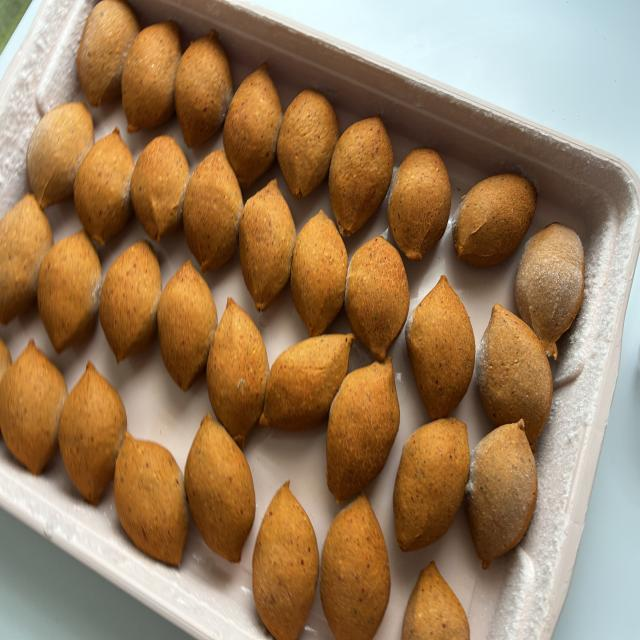kobi: (518, 221, 599, 359), (482, 298, 556, 448), (390, 418, 474, 550), (252, 483, 323, 632), (326, 358, 402, 496), (189, 416, 254, 570), (406, 277, 476, 418), (262, 329, 360, 428), (468, 428, 543, 554), (321, 498, 386, 640), (114, 443, 190, 563), (63, 363, 127, 504), (210, 300, 273, 442), (454, 170, 546, 262), (329, 117, 399, 235), (96, 246, 164, 365), (37, 235, 106, 350), (186, 138, 242, 275), (239, 171, 295, 307), (348, 242, 416, 354), (75, 128, 134, 251), (391, 154, 459, 260), (178, 35, 236, 159), (74, 1, 140, 109), (160, 262, 215, 391), (2, 354, 62, 471), (122, 20, 180, 140), (232, 64, 286, 188), (277, 92, 340, 196), (28, 110, 94, 207), (295, 209, 347, 329), (0, 190, 48, 318), (138, 134, 188, 242), (402, 567, 470, 640)
